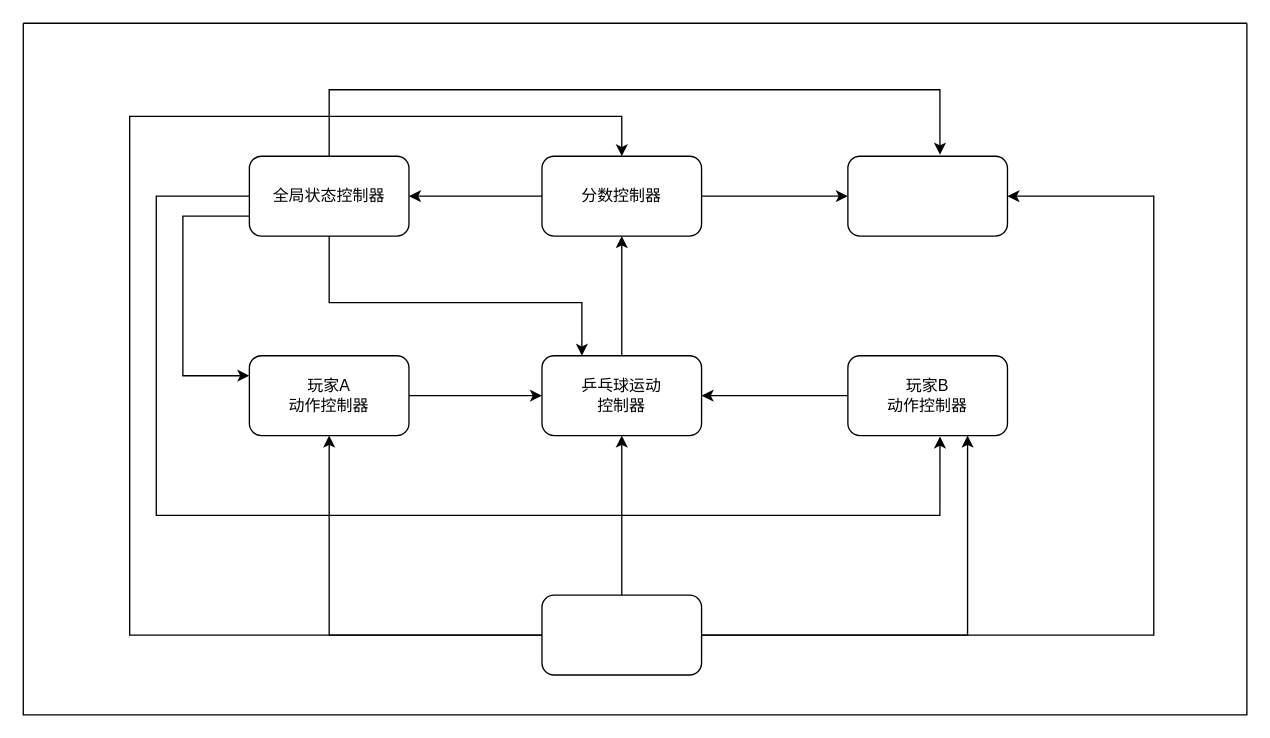
Some shapes in this 1270 by 738 pixel diagram are drawn without their labels. The centre of each missing label's shape, as x and y in pixels:
分数显示控制器: the point at 927,195
时钟分频器: the point at 621,634
